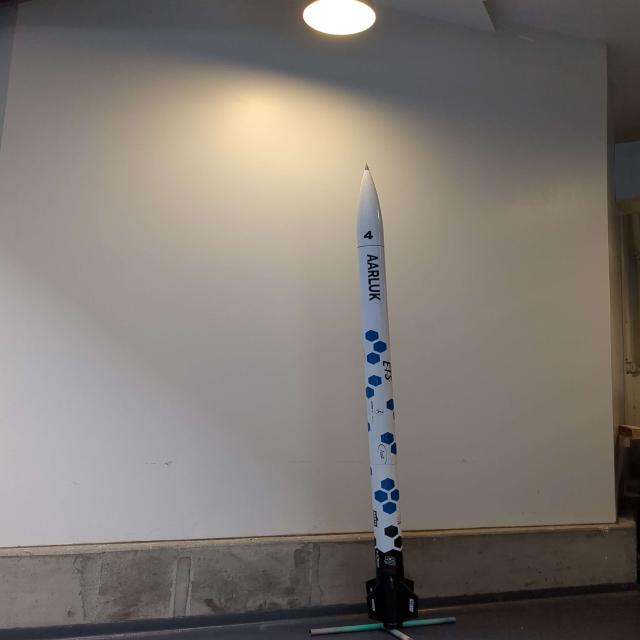Rocket: (356, 163, 419, 629)
